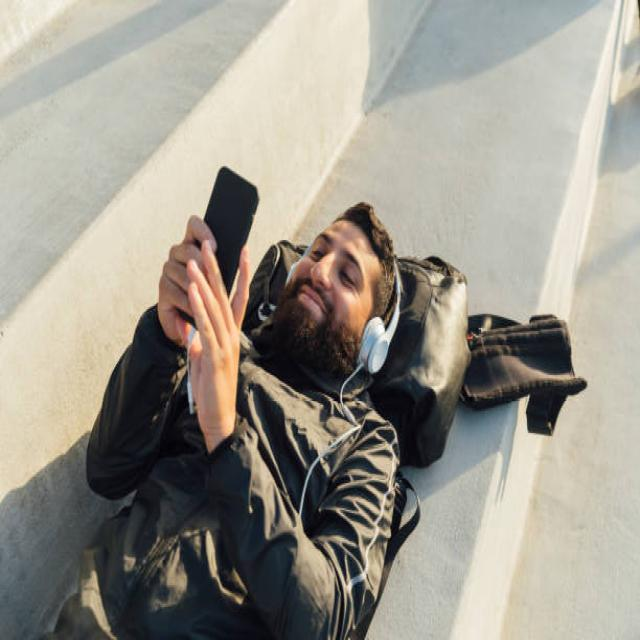Headphone: (286, 239, 404, 375)
